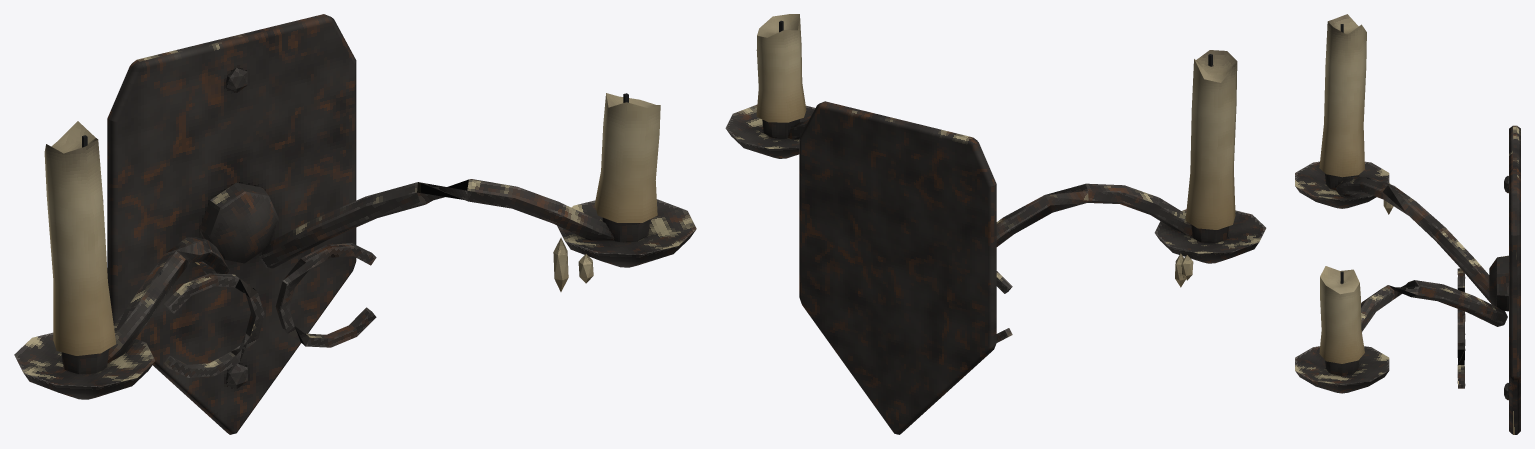
The model's file is sconce.glb.
3 renders of one model, left to right at view 1: azimuth 30°, elevation 25°; view 2: azimuth 150°, elevation 25°; view 3: azimuth 270°, elevation 25°, orthographic. The views are drawn at different scales.
Visible parts, largest first — view 1: WallSconce; view 2: WallSconce; view 3: WallSconce.
Part boxes in pixels (bbox=[...]): WallSconce: bbox=[14, 14, 696, 434]; WallSconce: bbox=[725, 14, 1266, 434]; WallSconce: bbox=[1295, 14, 1520, 434].
Size of the model in its own units: 0.54 by 0.3549 by 0.2276.
Materials: 1 (1 with a texture image).
